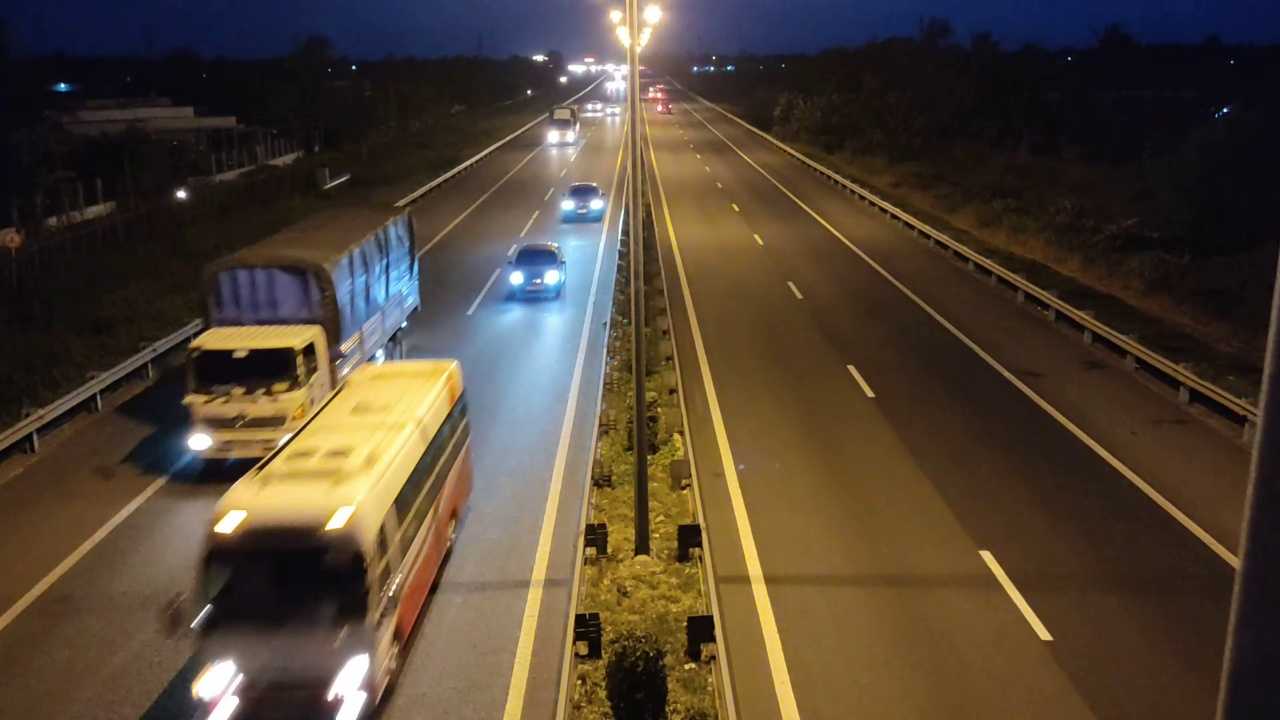bus: (183, 359, 477, 715)
car: (503, 241, 567, 301), (559, 181, 606, 223)
truck: (181, 200, 422, 465)
